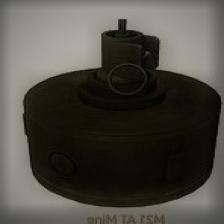M21: (25, 28, 224, 214)
